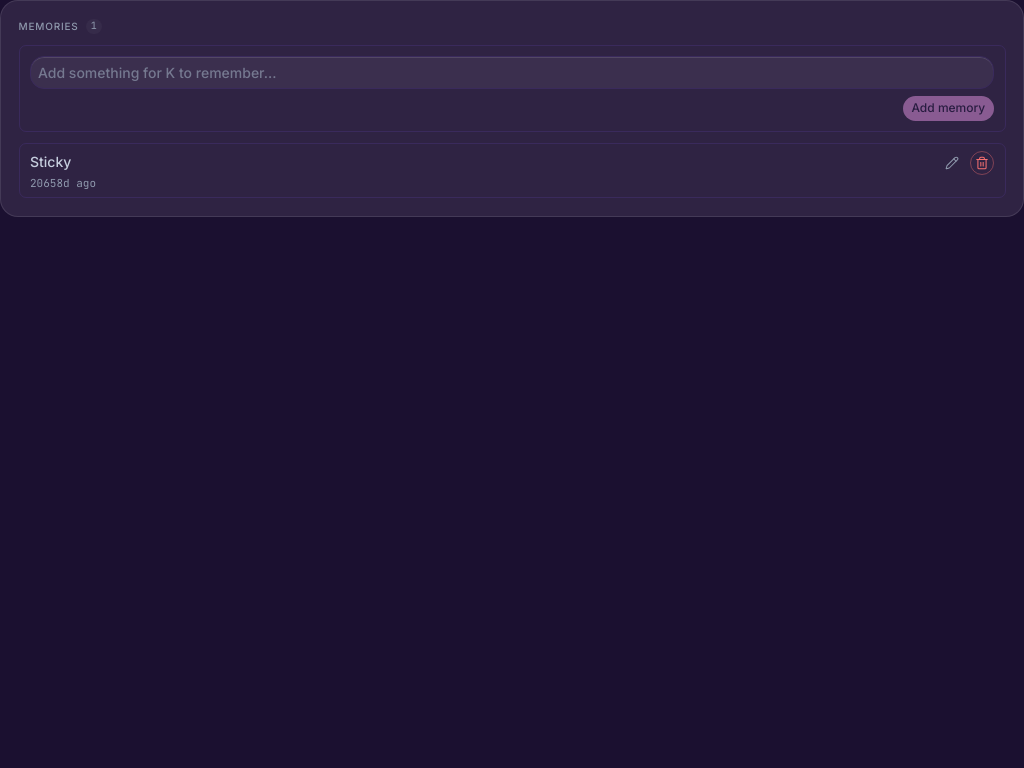
Test: MemoriesTab › a failed delete surfaces inline in the dialog and keeps it open
Check: the element with test id "memories-row-um-1" is shown, box [18,142,1006,198]
Click the button with test id "memories-delete-um-1". click: (982, 163)
box: [970,150,994,175]
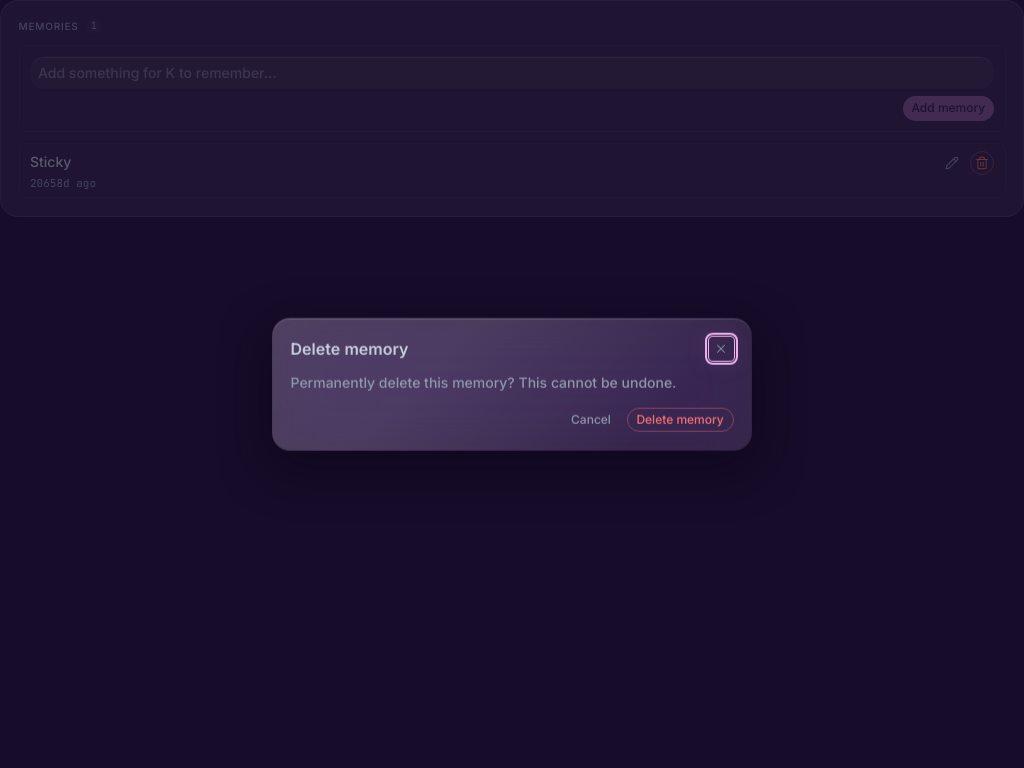
Click the button with test id "memories-delete-confirm-confirm". click: (680, 420)
box: [627,407,734,432]
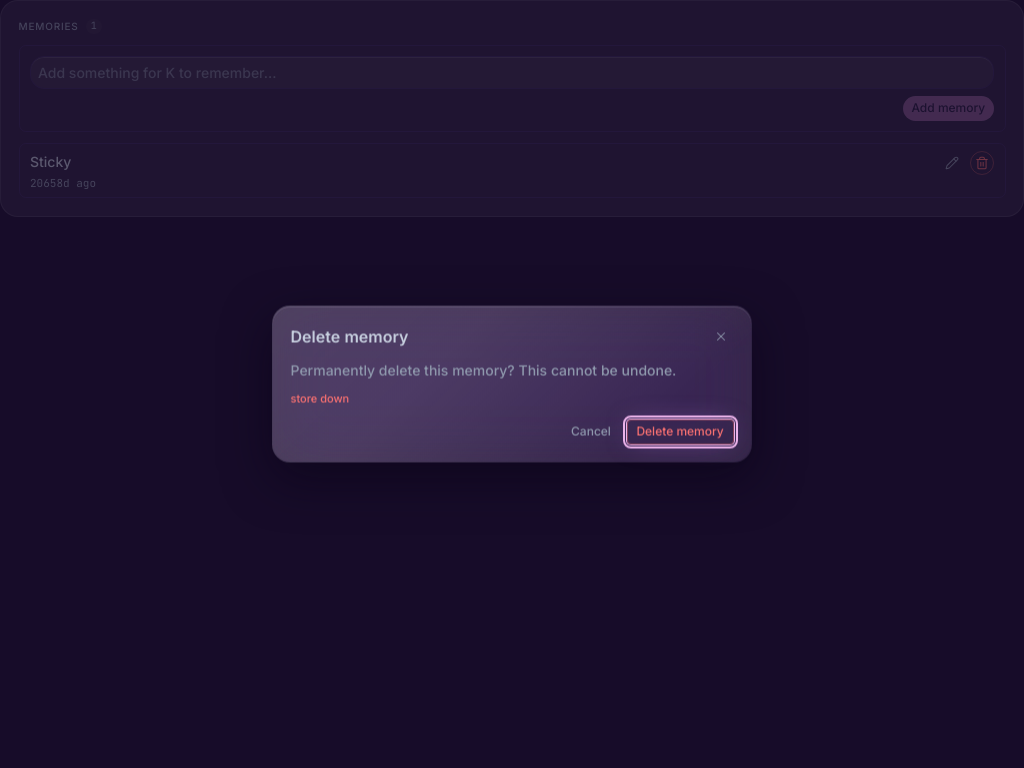
Check: the button with test id "memories-delete-confirm-confirm" is shown, box [627,420,734,444]
Check: the text "store down" is shown, box [290,392,349,406]
